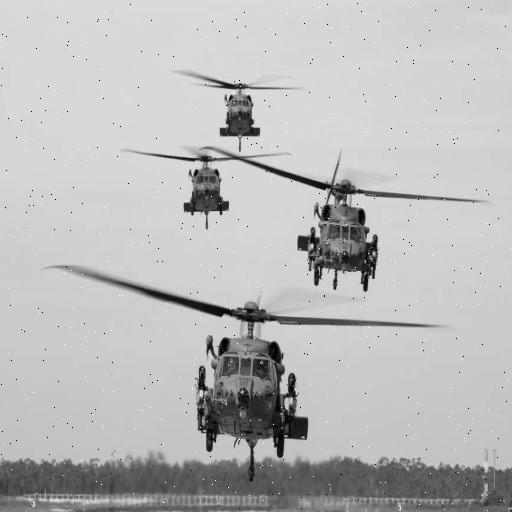helicopter: (45, 251, 458, 485), (208, 144, 492, 276), (122, 144, 296, 231), (172, 57, 310, 139)
